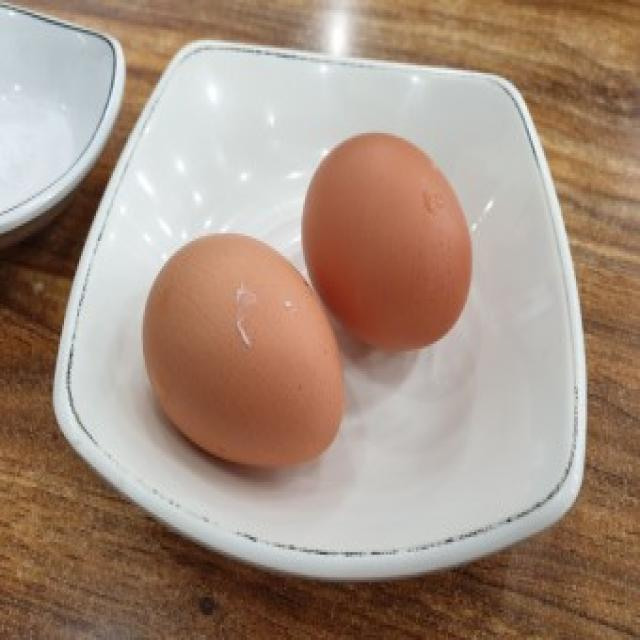eggs: (136, 230, 349, 480), (297, 126, 481, 358)
